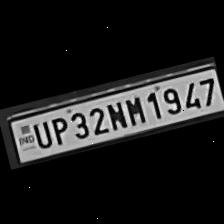1: (140, 88, 164, 122)
2: (82, 100, 110, 136)
3: (65, 106, 91, 140)
4: (175, 77, 201, 111)
7: (194, 72, 220, 108)
9: (155, 82, 183, 118)
M: (120, 91, 148, 126)
N: (101, 96, 128, 131)
P: (46, 112, 72, 147)
U: (26, 117, 52, 150)
